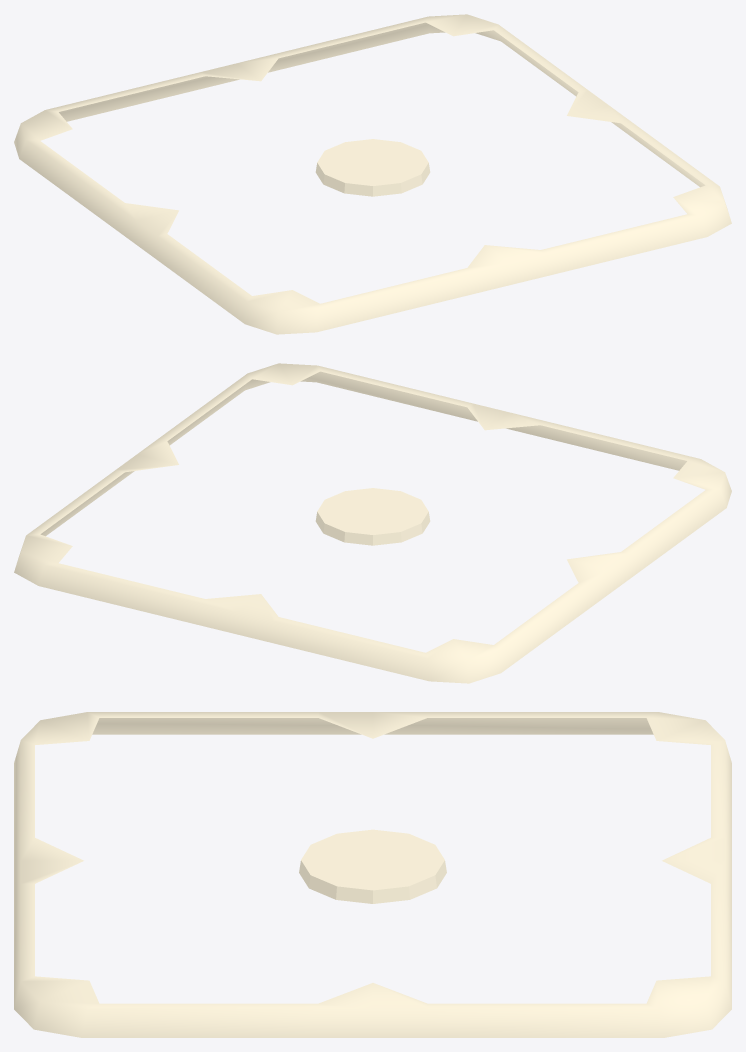
File: cell_hover.glb
The picture shows the model from 3 angles, top to bottom: view 1: azimuth 30°, elevation 25°; view 2: azimuth 150°, elevation 25°; view 3: azimuth 270°, elevation 25°; orthographic projection. The views are drawn at different scales.
Visible parts, largest first — view 1: cell_hover; view 2: cell_hover; view 3: cell_hover.
Boxes of the visible parts, left/top/right/bottom form: cell_hover: left=14, top=14, right=731, bottom=334; cell_hover: left=14, top=363, right=731, bottom=683; cell_hover: left=14, top=712, right=731, bottom=1037.
Bounding box in the file's own units: 1.02 × 0.0409 × 1.02.
Materials: 1 (1 with a texture image).
